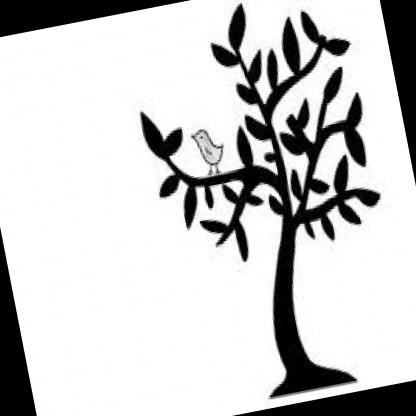bird: (186, 121, 228, 176)
branch_sharp: (118, 0, 391, 274)
root_only: (259, 358, 363, 404)
trunk_reflex: (259, 272, 315, 352)
